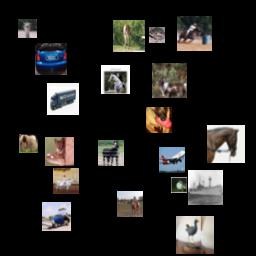airplane: (159, 147, 185, 173)
automobile: (35, 43, 67, 75)
bird: (176, 216, 214, 254), (18, 19, 37, 38)
cat: (45, 137, 74, 166)
deer: (152, 63, 187, 98), (113, 20, 145, 52)
dog: (146, 107, 172, 133), (19, 134, 38, 153)
frog: (171, 177, 187, 193), (149, 27, 165, 43)
ship: (188, 170, 223, 205)
truck: (47, 83, 79, 115), (42, 202, 71, 231)
